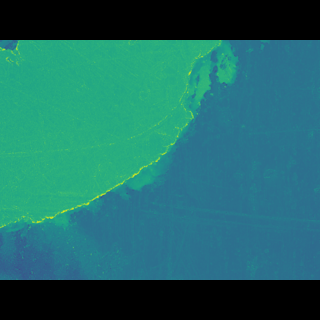Loch: (0, 69, 245, 219)
